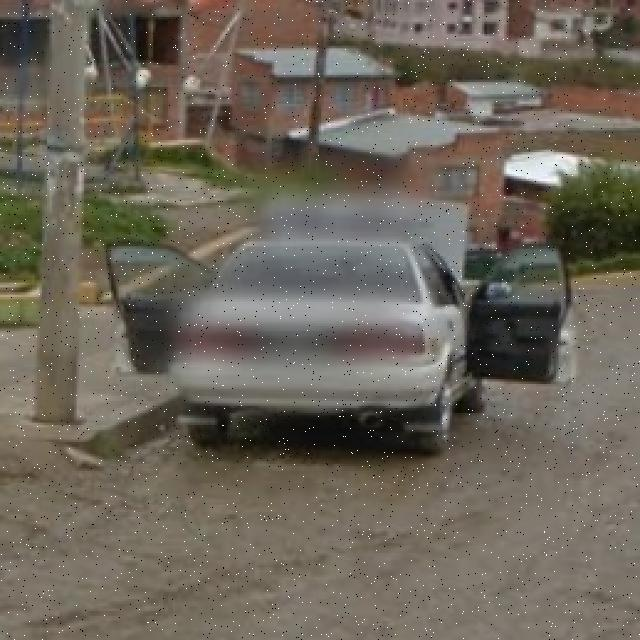cars: (121, 202, 577, 490)
